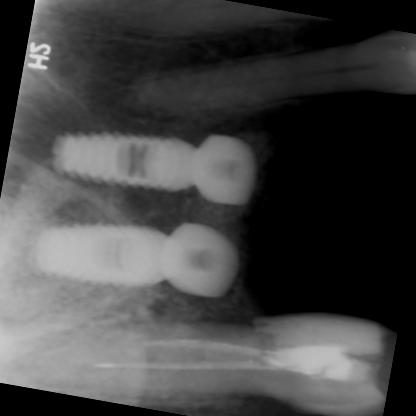Bicon: (37, 111, 201, 205), (20, 205, 170, 298)
